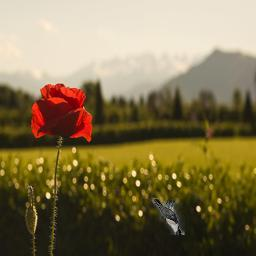Crow: (153, 199, 185, 236)
